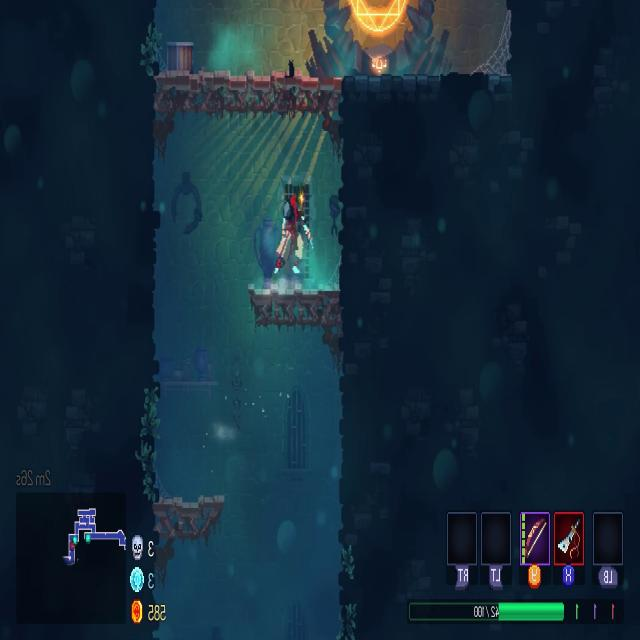agents: (272, 187, 313, 281)
